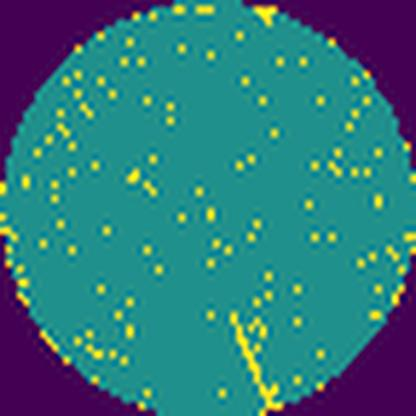Scratch: (226, 304, 286, 412)
